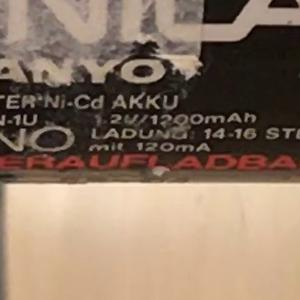keyword: (36, 86, 113, 112)
